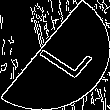L_NW: (22, 28, 88, 82)
